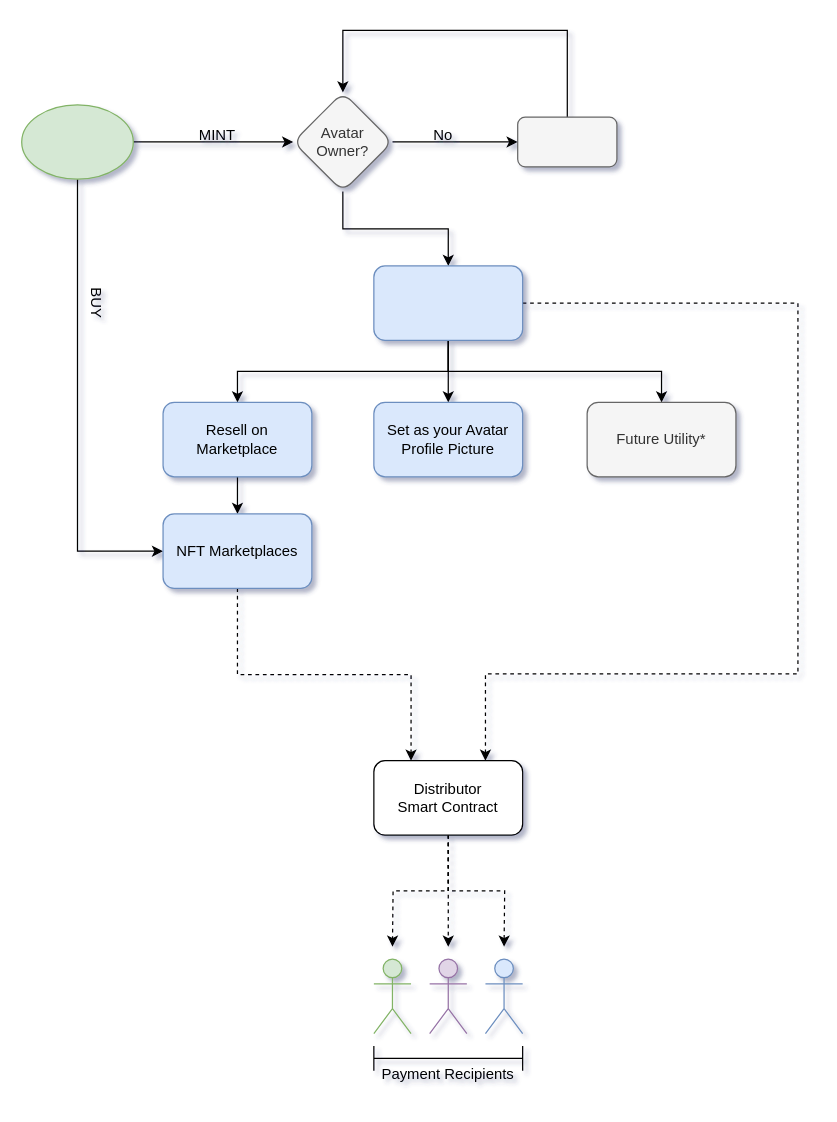
Image size: 837x1122. Some labels were removed from this diagram. The centre of each missing label's shape, as x and y in pixels:
Buy Avatar: [566,141]
Mint your own exclusive Crypto Kiwi: [448,302]
Start: [76,141]
